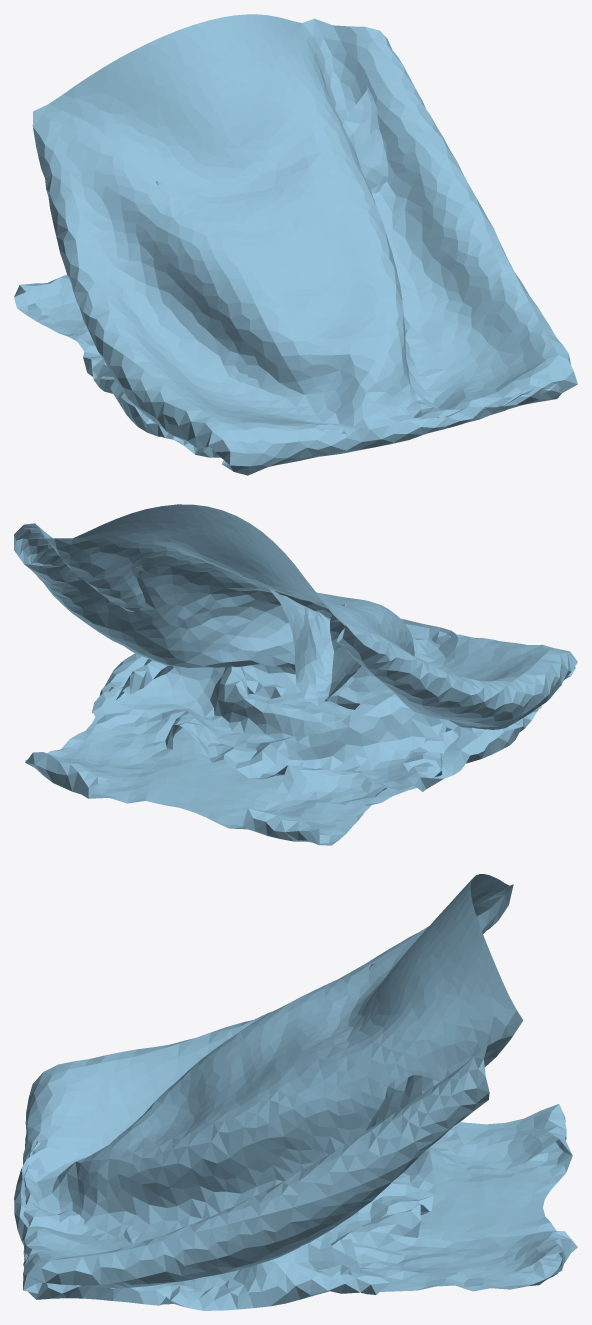
File: frame_18.glb
3 views of the same model, one above another, from view 1: azimuth 30°, elevation 25°; view 2: azimuth 150°, elevation 25°; view 3: azimuth 270°, elevation 25° (orthographic). The views are drawn at different scales.
Visible parts, largest first — view 1: frame_18.obj; view 2: frame_18.obj; view 3: frame_18.obj.
Part boxes in pixels (x1,y1,x2,y2): frame_18.obj: (14, 14, 577, 475); frame_18.obj: (14, 504, 577, 845); frame_18.obj: (14, 874, 577, 1310).
Size of the model in its own units: 0.8676 by 0.589 by 0.9333.
